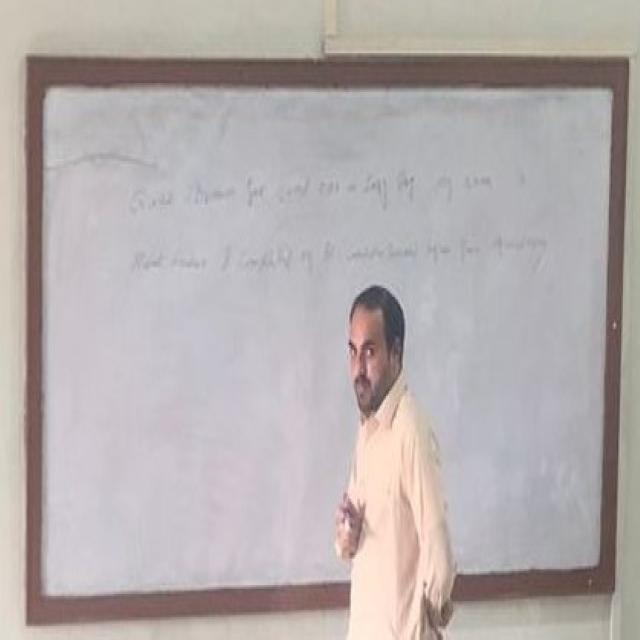Instructor: (340, 271, 455, 626)
White-board: (30, 74, 616, 611)
